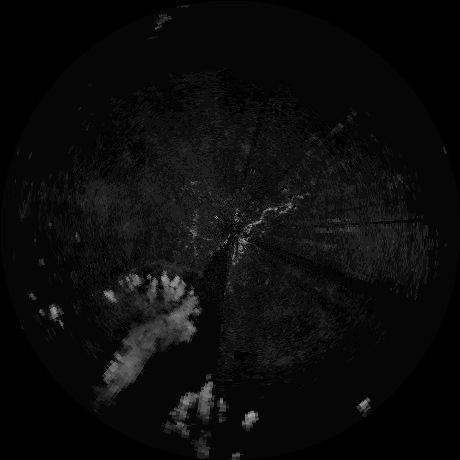frontgust: (138, 257, 200, 275)
